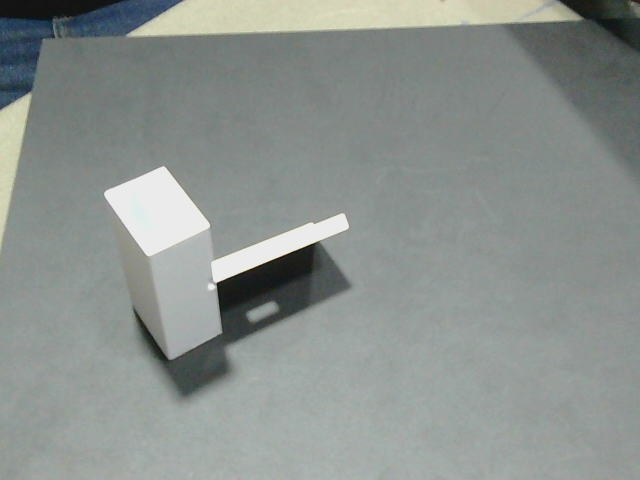enclosure_defective: (211, 214, 348, 282), (105, 167, 209, 256)
